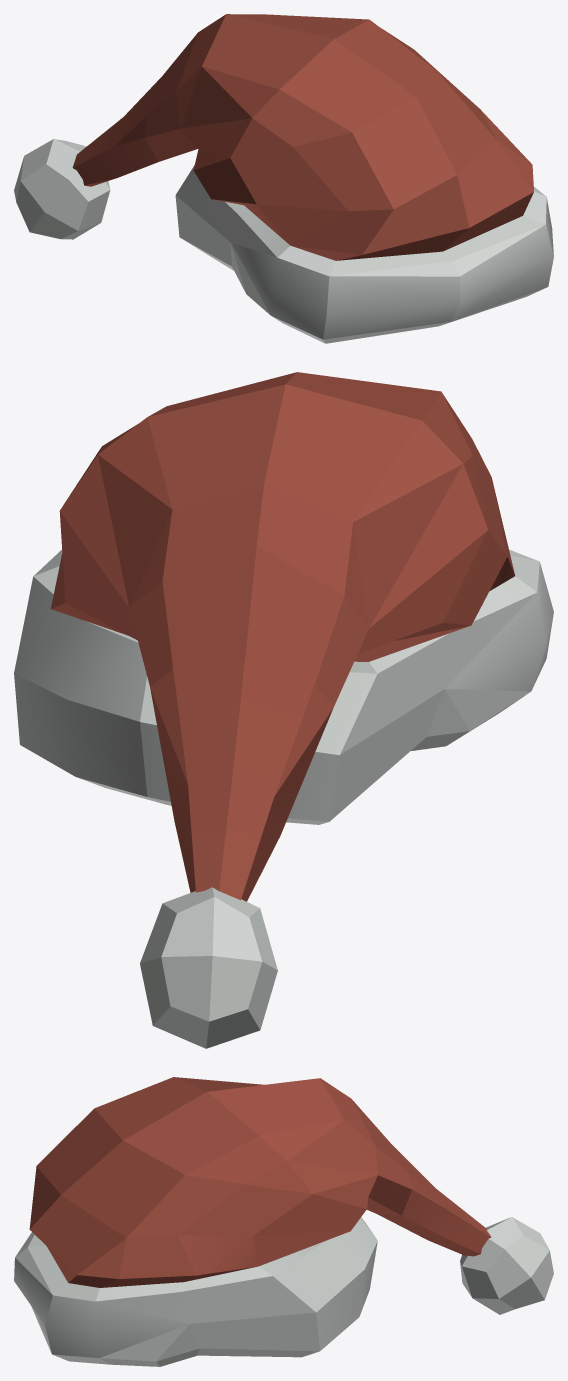
File: SM_Chr_Attach_Santa_Hat_01.fbx
The picture shows the model from 3 angles, top to bottom: view 1: azimuth 30°, elevation 25°; view 2: azimuth 150°, elevation 25°; view 3: azimuth 270°, elevation 25°; orthographic projection. The views are drawn at different scales.
Parts seen in each view (by area): view 1: SM_Chr_Attach_Santa_Hat_01; view 2: SM_Chr_Attach_Santa_Hat_01; view 3: SM_Chr_Attach_Santa_Hat_01.
Part boxes in pixels (left/top/right/bottom): SM_Chr_Attach_Santa_Hat_01: left=14, top=14, right=553, bottom=343; SM_Chr_Attach_Santa_Hat_01: left=14, top=372, right=553, bottom=1048; SM_Chr_Attach_Santa_Hat_01: left=14, top=1077, right=553, bottom=1366.
Size of the model in its own units: 20.54 by 18.69 by 33.86.
